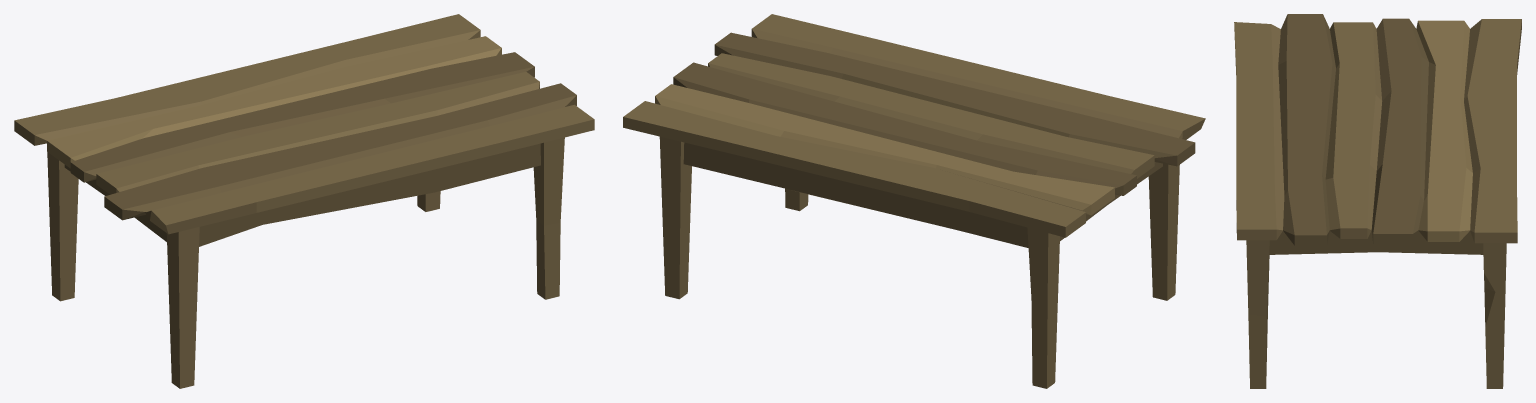
Rendered from Table_2.fbx.
3 renders of one model, left to right at view 1: azimuth 30°, elevation 25°; view 2: azimuth 150°, elevation 25°; view 3: azimuth 270°, elevation 25°, orthographic.
Parts seen in each view (by area): view 1: Table_2; view 2: Table_2; view 3: Table_2.
Part boxes in pixels (x1,y1,x2,y2): Table_2: [14, 14, 594, 388]; Table_2: [623, 14, 1205, 388]; Table_2: [1234, 14, 1521, 388].
Bounding box in the file's own units: 204 × 74.21 × 112.
